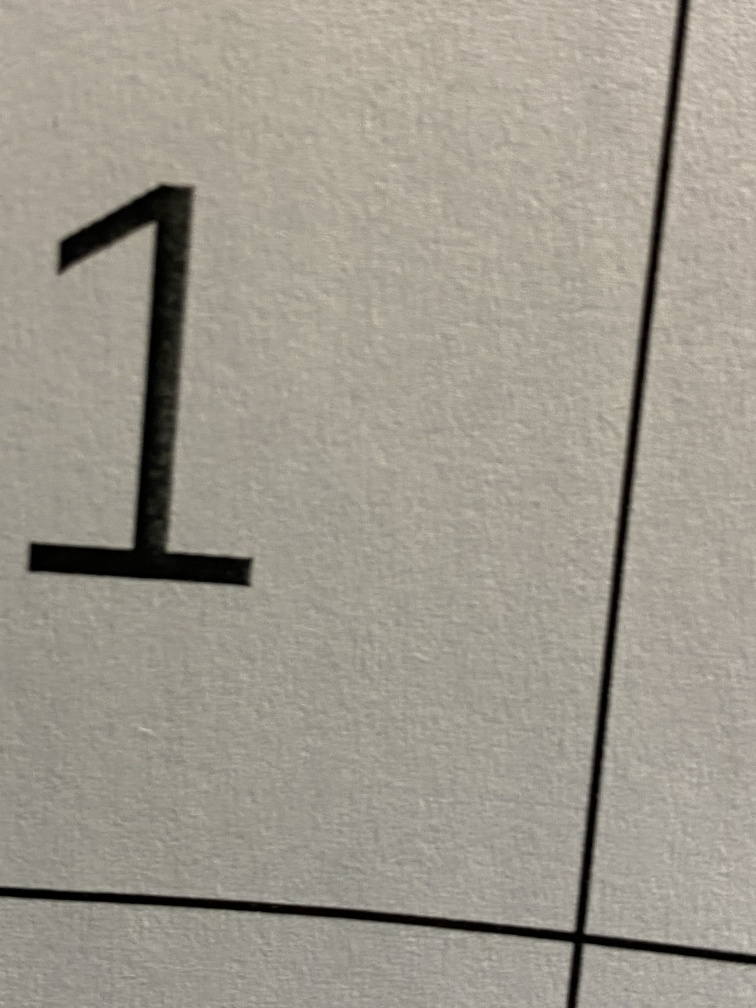one: (10, 159, 282, 636)
